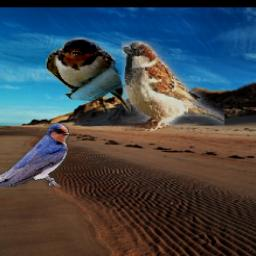Sparrow: (122, 42, 224, 132)
Swallow: (47, 37, 132, 112), (0, 123, 69, 187)
